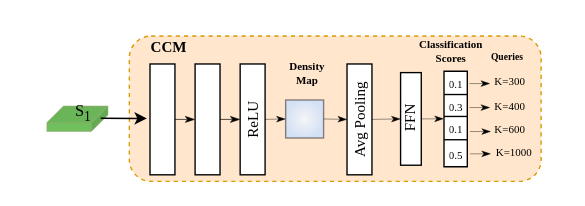
Some shapes in this 585 by 206 pixel diagram are drawn without their labels. The shapes that lost their labels are listed below. From the top down, each one's centre as x and y in pixels, then its label:
At point 162,119: "1×1 conv".
At point 207,119: "dilated conv".
